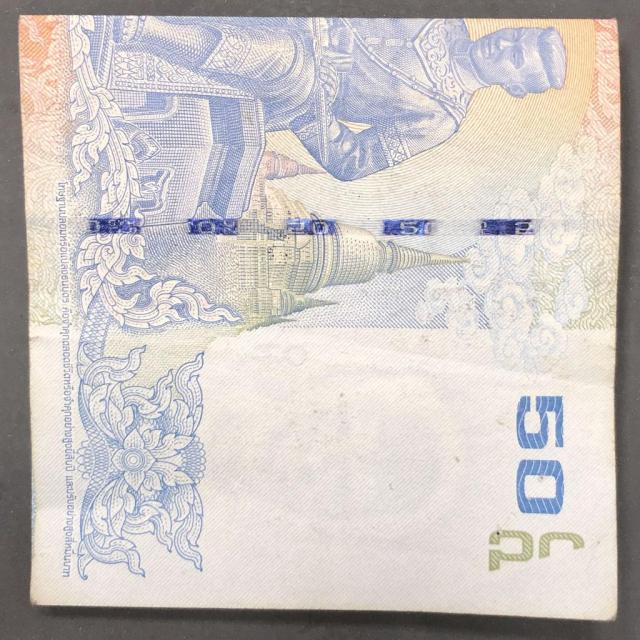THAI50: (18, 15, 633, 630)
